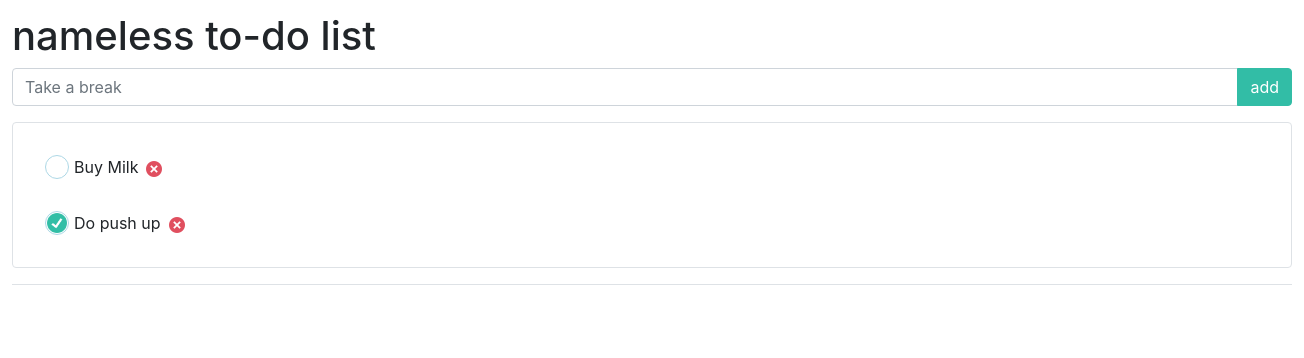
Test: TodoList › should allow user to add a todo item
The image size is (1304, 358).
Type "Take a nap" into the field with placeholder "Take a break".
click(625, 87); type("Take a nap")  # box x1=12 y1=68 x2=1238 y2=106
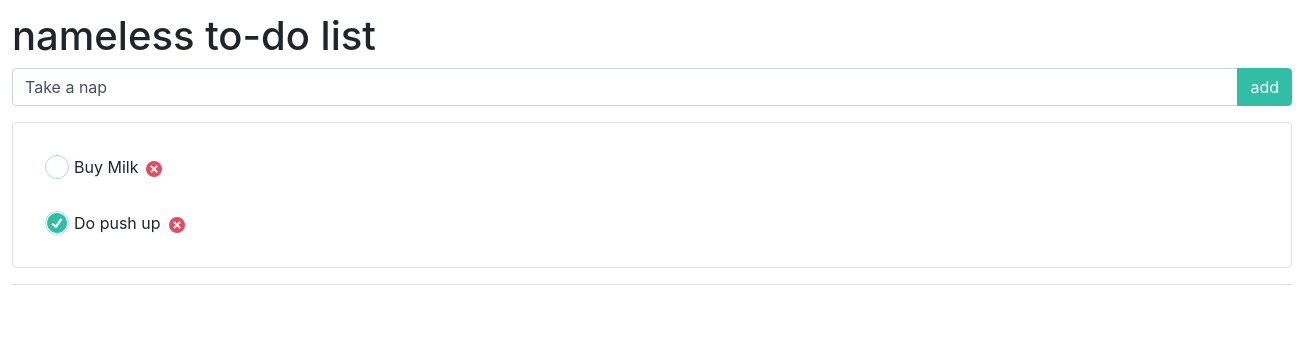
Click the button "add".
click(1265, 87)  # box x1=1237 y1=68 x2=1292 y2=106
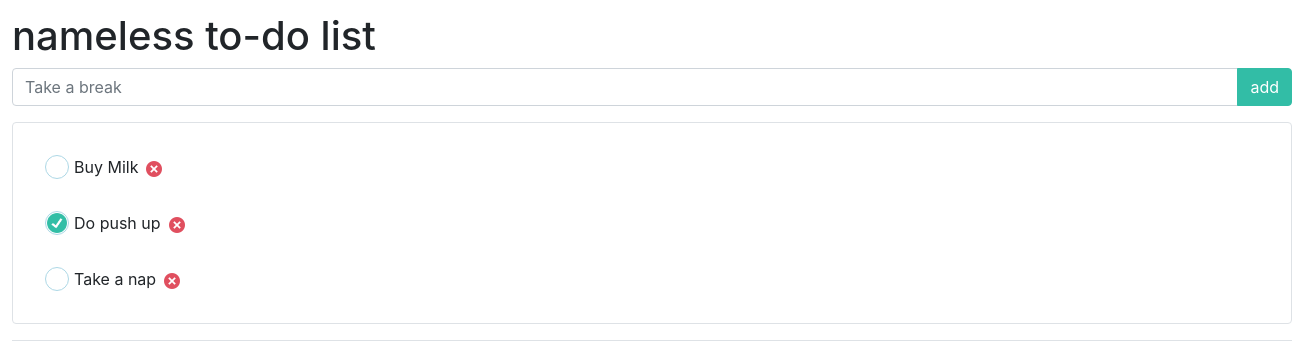
Expected: the text "Take a nap" is shown, x1=74 y1=267 x2=156 y2=291
